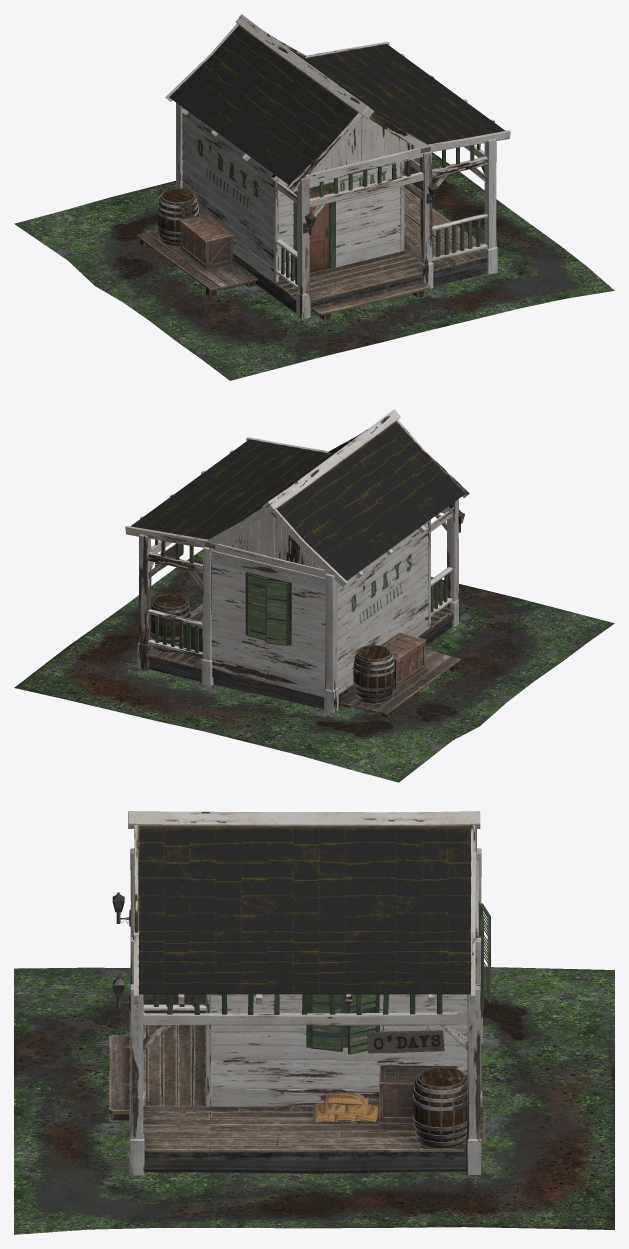
The model's file is store.glb.
3 views of the same model, one above another, from view 1: azimuth 30°, elevation 25°; view 2: azimuth 150°, elevation 25°; view 3: azimuth 270°, elevation 25° (orthographic). The views are drawn at different scales.
Visible parts, largest first — view 1: Ground_M, Tiles_M, Walls_M1, Roof_Support_M, Floor_Boards_M, Pillars_M, Floor_Support_M2, Wooden_Crate_Low1, Floor_Boards_M2, Decoration_M11, Barrel_Low1, Bot_Wall_M (+5 smaller); view 2: Ground_M, Tiles_M, Walls_M1, Roof_Support_M, Pillars_M, Floor_Support_M2, Window_Blinds_M, Barrel_Low1, Bot_Wall_M, Floor_Boards_M2, Decoration_M11, Top_Wall_M (+4 smaller); view 3: Ground_M, Tiles_M, Floor_Boards_M, Walls_M1, Roof_Support_M, Floor_Support_M2, Pillars_M, Barrel_Low, Bot_Wall_M, Wooden_Crate_Low, Window_Blinds_M1, Step_M (+6 smaller).
Part boxes in pixels (box(x1,y1,x2,y2)): Ground_M: box(14, 152, 614, 380); Tiles_M: box(169, 25, 505, 184); Walls_M1: box(182, 113, 400, 269); Roof_Support_M: box(165, 14, 510, 207); Floor_Boards_M: box(274, 188, 486, 301); Pillars_M: box(176, 103, 497, 319); Floor_Support_M2: box(217, 252, 486, 315); Wooden_Crate_Low1: box(180, 214, 233, 270); Floor_Boards_M2: box(136, 229, 257, 290); Decoration_M11: box(276, 213, 487, 288); Barrel_Low1: box(157, 188, 198, 246); Bot_Wall_M: box(198, 214, 400, 281); Ground_M: box(14, 549, 614, 782); Tiles_M: box(131, 421, 465, 580); Walls_M1: box(211, 523, 428, 683); Roof_Support_M: box(125, 409, 469, 586); Pillars_M: box(137, 499, 460, 713); Floor_Support_M2: box(148, 613, 453, 708); Window_Blinds_M: box(246, 573, 290, 645); Barrel_Low1: box(353, 645, 395, 703); Bot_Wall_M: box(211, 616, 428, 696); Floor_Boards_M2: box(339, 649, 460, 714); Decoration_M11: box(147, 567, 452, 656); Top_Wall_M: box(211, 521, 428, 590); Ground_M: box(14, 967, 614, 1234); Tiles_M: box(138, 826, 470, 994); Floor_Boards_M: box(143, 1024, 485, 1152); Walls_M1: box(211, 994, 467, 1089); Roof_Support_M: box(128, 811, 480, 1025); Floor_Support_M2: box(144, 1025, 466, 1173); Pillars_M: box(129, 848, 482, 1175); Barrel_Low: box(412, 1066, 467, 1147); Bot_Wall_M: box(211, 1088, 379, 1107); Wooden_Crate_Low: box(379, 1065, 457, 1124); Window_Blinds_M1: box(308, 994, 379, 1054); Step_M: box(109, 1035, 130, 1120).
Size of the model in its own units: 9.22 by 4.69 by 8.97.
7 materials, 7 textured.
